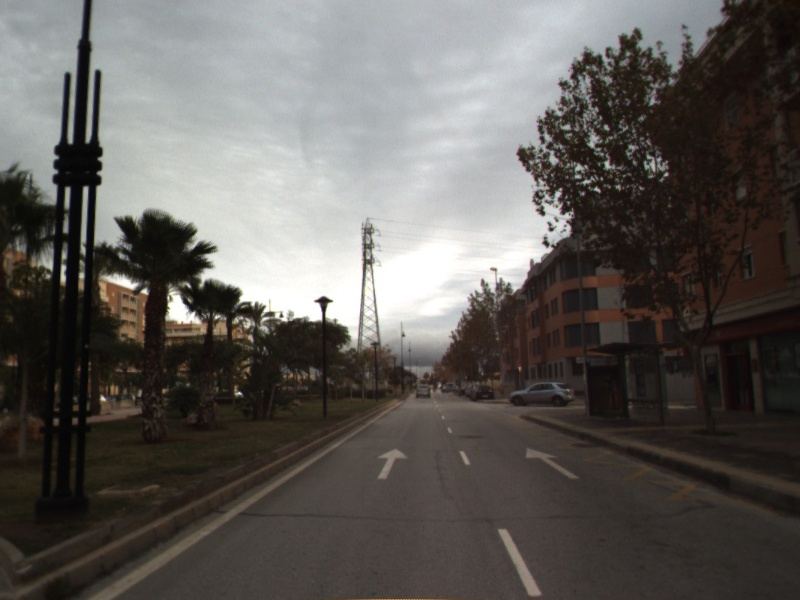STRAIGHT: (523, 445, 582, 481), (375, 446, 410, 481)
